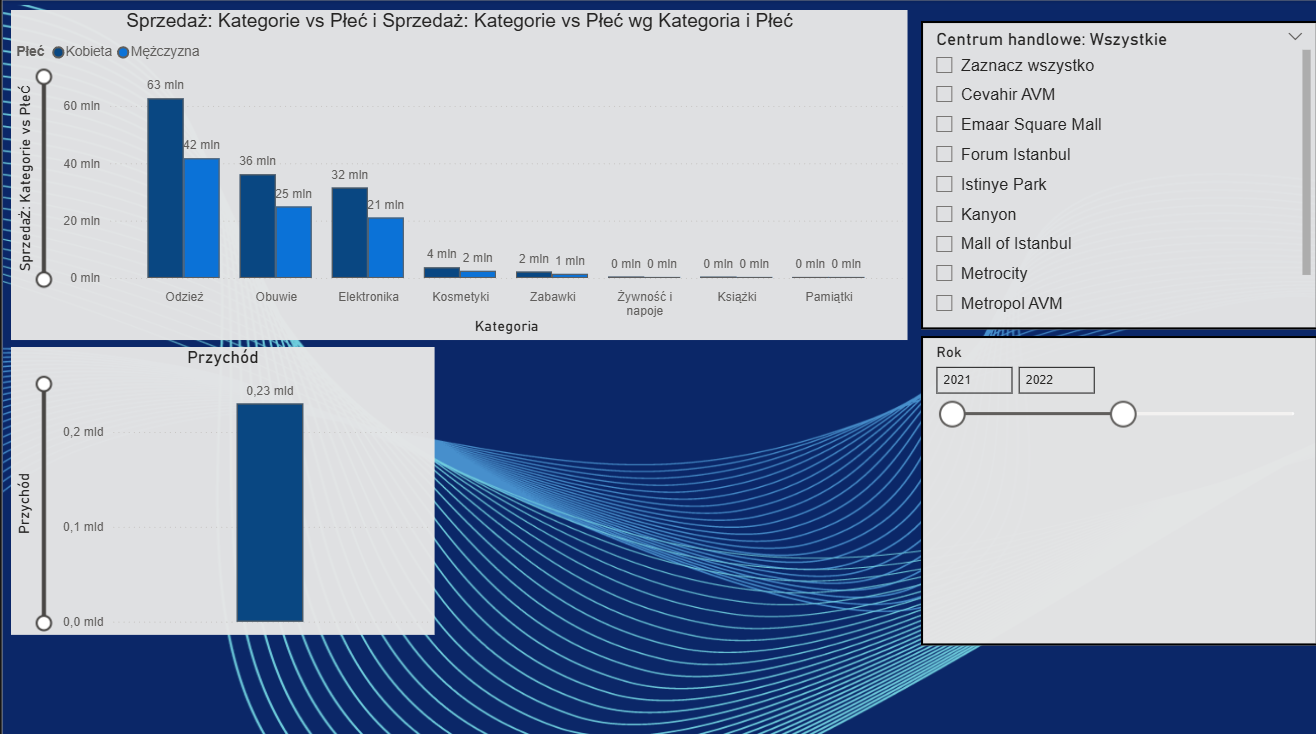

The page's visual inventory and layout, read from the dashboard file:
{"tool":"powerbi","page":{"name":"Kto i co u nas kupuje?","canvas":[1280,720],"ordinal":0},"visuals":[{"type":"clusteredColumnChart","fields":{"Y":["Sum(customer_shopping_data.Przychód)"]},"box":[8.8,337.5,412.4,280.1],"z":0},{"type":"clusteredColumnChart","fields":{"Category":["customer_shopping_data.category"],"Y":["Sum(customer_shopping_data.Przychód)"],"Series":["customer_shopping_data.gender"]},"box":[8.8,9.7,872.5,321],"z":1000},{"type":"slicer","fields":{"Values":["customer_shopping_data.shopping_mall"]},"box":[893.9,20.4,386.1,299.6],"z":2000},{"type":"slicer","fields":{"Values":["customer_shopping_data.invoice_date.Odmiana.Hierarchia dat.Rok"]},"box":[893.9,326.8,386.1,300.5],"z":3000}]}

Visuals, with their boxes in screenshot pixels (x1, y1, x2, y2), scaled from the page's 1280x720 canvas onto the 1316x734 screenshot:
clusteredColumnChart - Sum(customer_shopping_data.Przychód): 9,344,433,630
clusteredColumnChart - customer_shopping_data.category x Sum(customer_shopping_data.Przychód): 9,10,906,337
slicer - customer_shopping_data.shopping_mall: 919,21,1315,326
slicer - customer_shopping_data.invoice_date.Odmiana.Hierarchia dat.Rok: 919,333,1315,639
